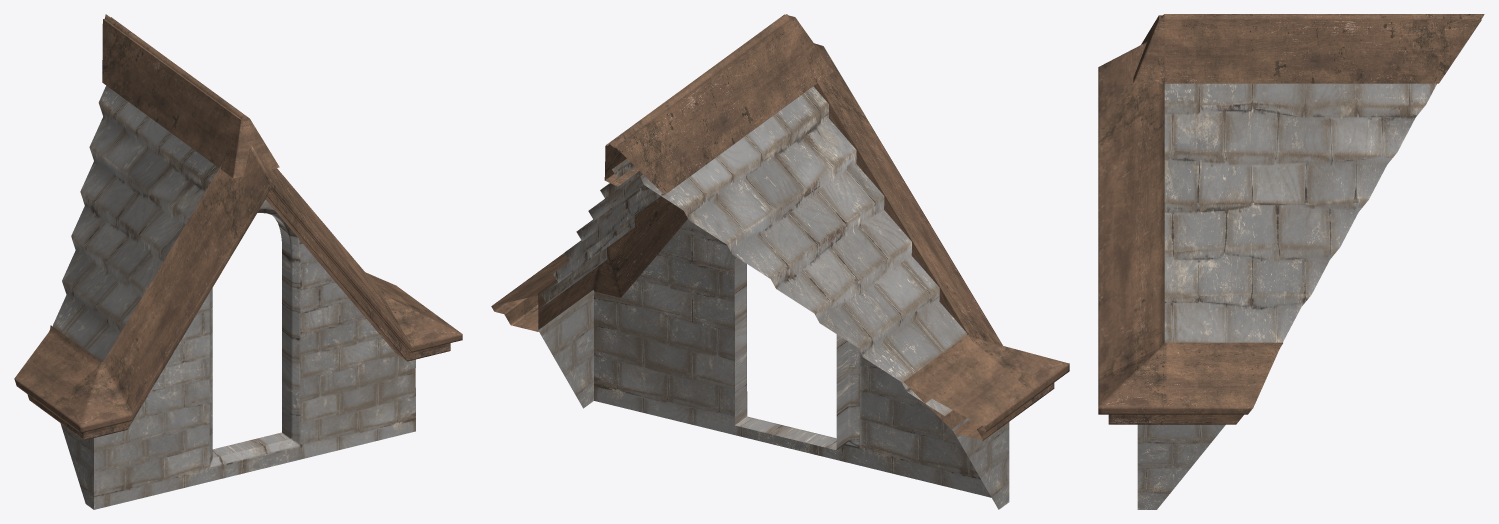
File: SM_RoofAttic01_LOD0.glb
3 views of the same model, side by side, from view 1: azimuth 30°, elevation 25°; view 2: azimuth 150°, elevation 25°; view 3: azimuth 270°, elevation 25° (orthographic). The views are drawn at different scales.
Parts seen in each view (by area): view 1: SM_RoofAttic01_LOD0; view 2: SM_RoofAttic01_LOD0; view 3: SM_RoofAttic01_LOD0.
Part boxes in pixels (<box>): SM_RoofAttic01_LOD0: <box>14,14,462,509</box>; SM_RoofAttic01_LOD0: <box>491,14,1069,509</box>; SM_RoofAttic01_LOD0: <box>1098,14,1484,509</box>.
Size of the model in its own units: 3.56 by 3.09 by 2.68.
Materials: 2 (2 with a texture image).
